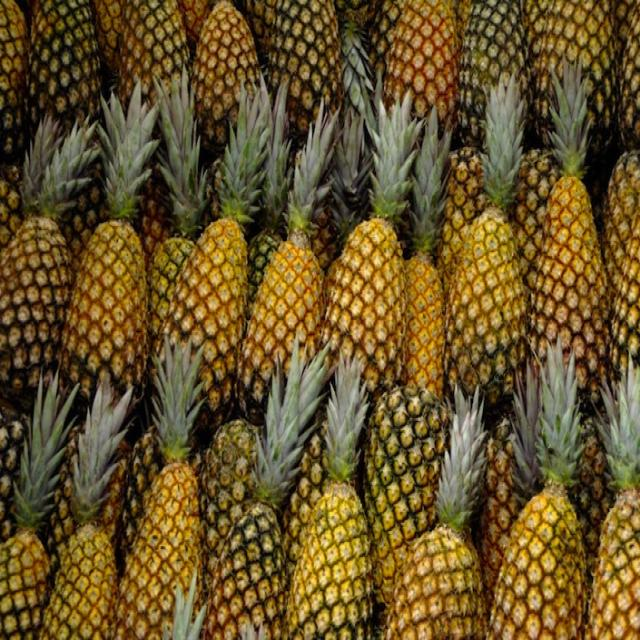pineapple: (128, 422, 203, 640), (532, 169, 608, 377), (496, 467, 582, 640), (71, 193, 147, 387), (450, 207, 522, 394), (0, 188, 65, 388), (313, 438, 369, 640), (395, 516, 484, 640), (50, 476, 116, 640), (226, 470, 289, 640), (334, 200, 407, 338), (584, 468, 640, 639), (188, 181, 250, 335), (26, 0, 102, 124), (252, 223, 332, 339), (192, 4, 257, 144), (270, 0, 341, 128), (117, 0, 192, 113), (384, 0, 457, 102), (0, 485, 44, 640), (408, 230, 447, 398), (461, 0, 530, 83)
